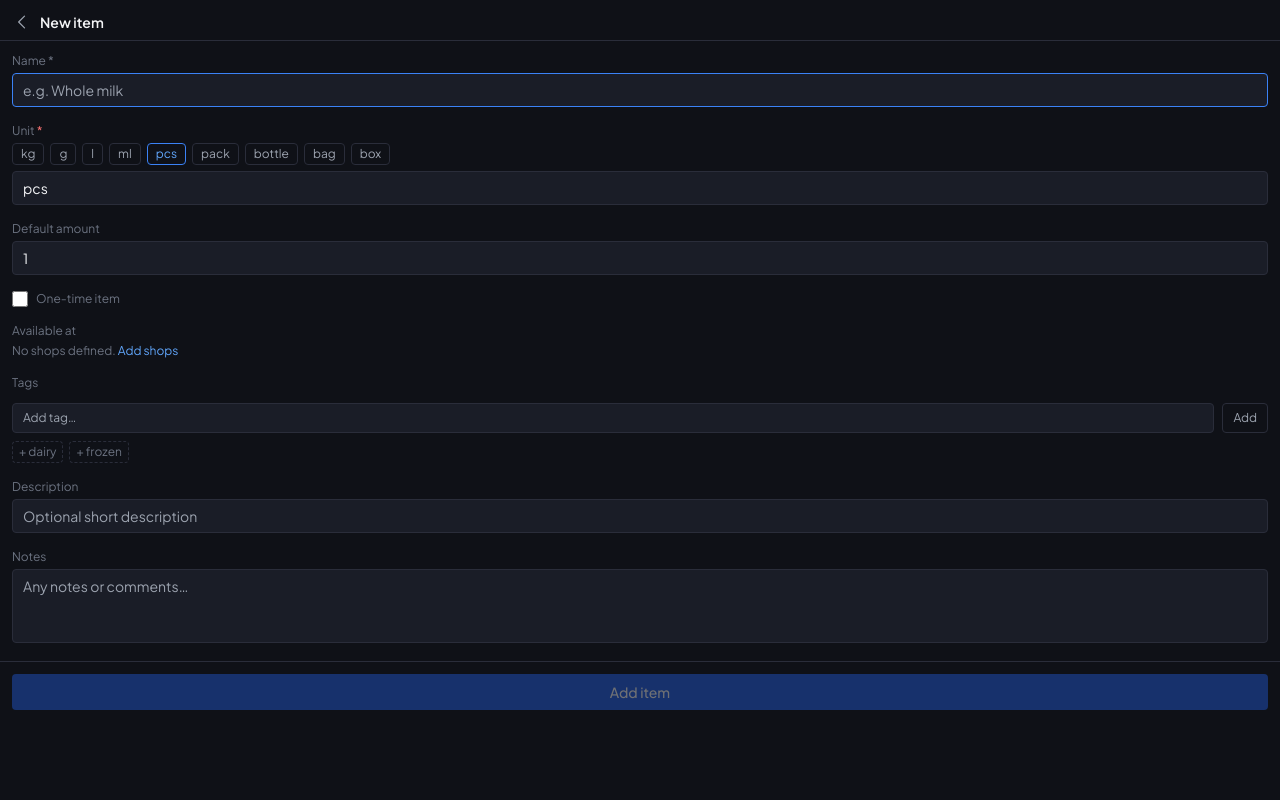
Test: ItemDetailScreen — tag filtering › hides the list entirely when nothing matches
Type "xyz" into the field with placeholder "Add tag…".
click(613, 418); type("xyz")  # box x1=12 y1=403 x2=1214 y2=433
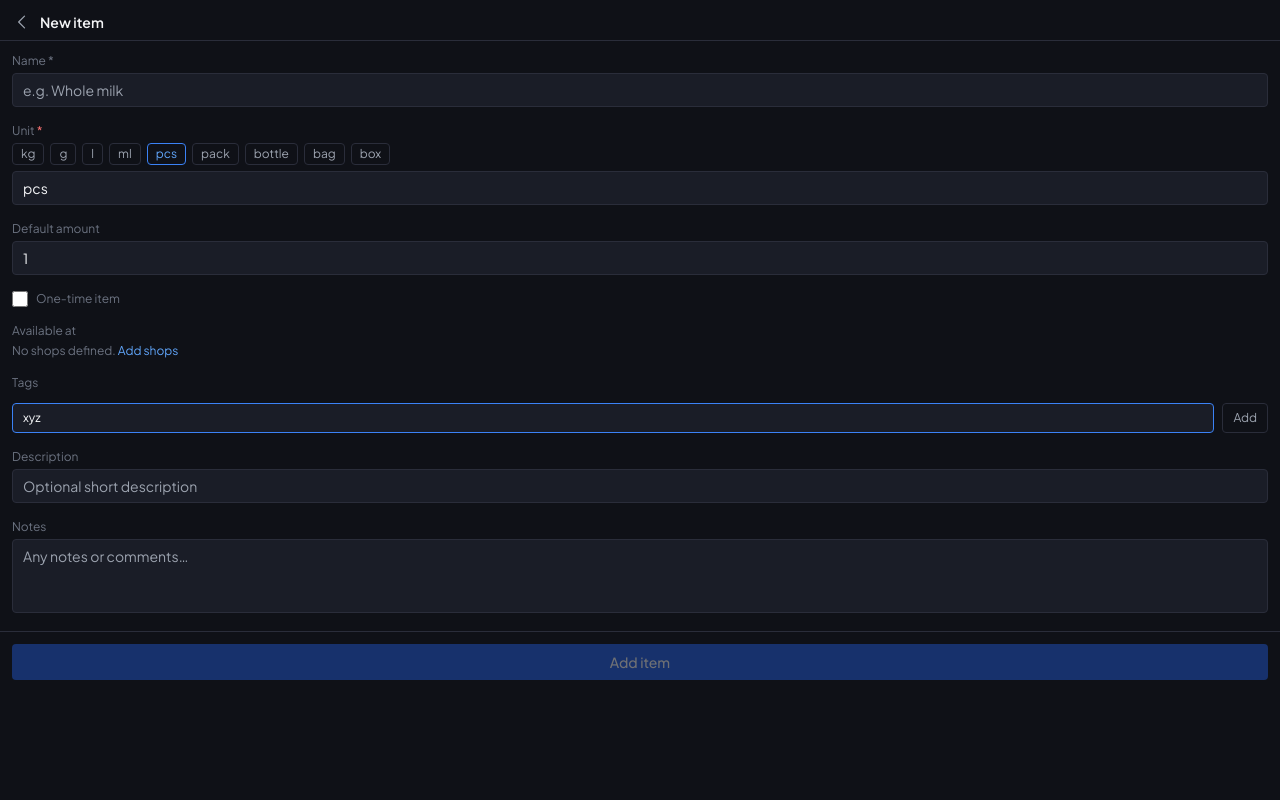
Check: the button "+ " is gone
